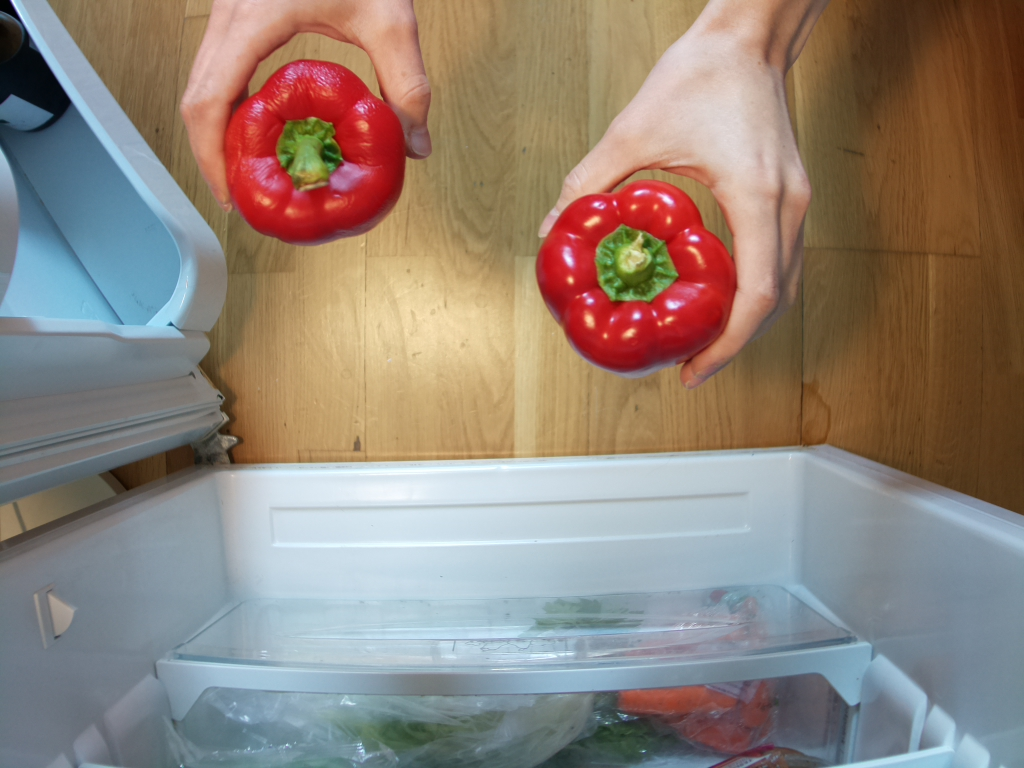pepper: (536, 179, 740, 378)
pepper-bad: (222, 57, 406, 248)
